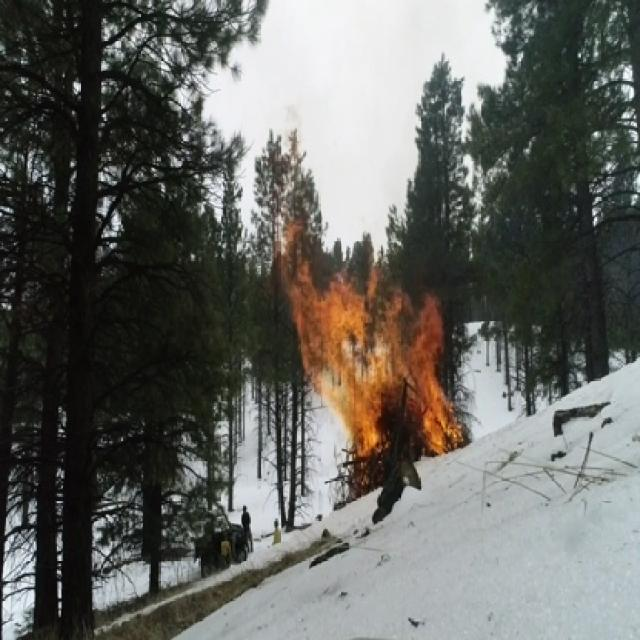Fire: (276, 214, 470, 494)
